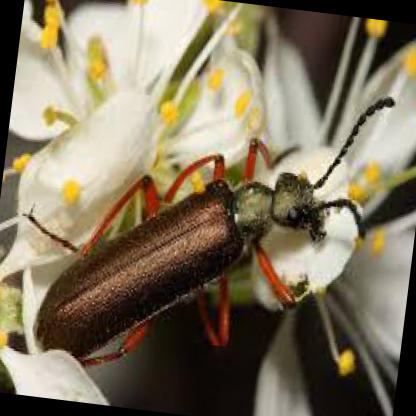blister beetle: (26, 97, 392, 358)
